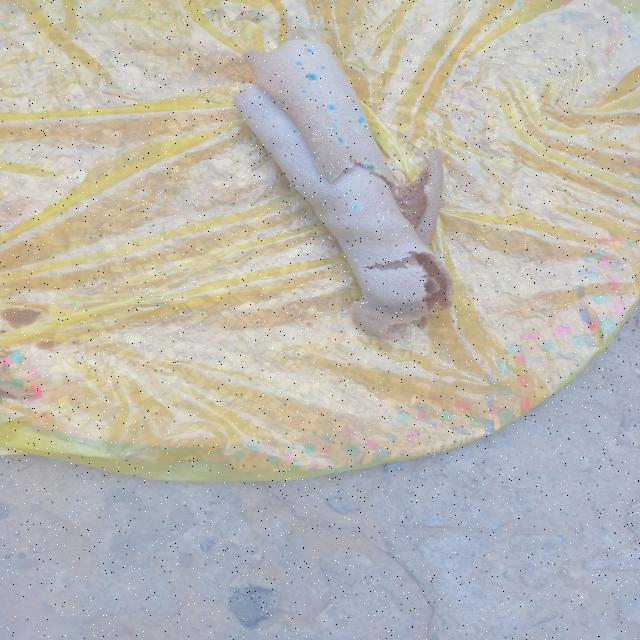injera_mold: (336, 136, 348, 146), (362, 163, 377, 170), (323, 171, 335, 179), (306, 72, 316, 81), (350, 203, 360, 212), (355, 116, 365, 124), (327, 102, 336, 110), (331, 121, 339, 130), (305, 47, 314, 55), (294, 60, 304, 66), (425, 186, 432, 194), (314, 136, 323, 142), (320, 64, 326, 70), (432, 159, 438, 165), (329, 136, 334, 143), (275, 71, 280, 78), (300, 90, 308, 94), (344, 165, 352, 169), (284, 104, 290, 109), (304, 119, 309, 125), (356, 128, 360, 135), (359, 301, 370, 303), (295, 102, 301, 105), (309, 115, 314, 118), (278, 90, 282, 93)
